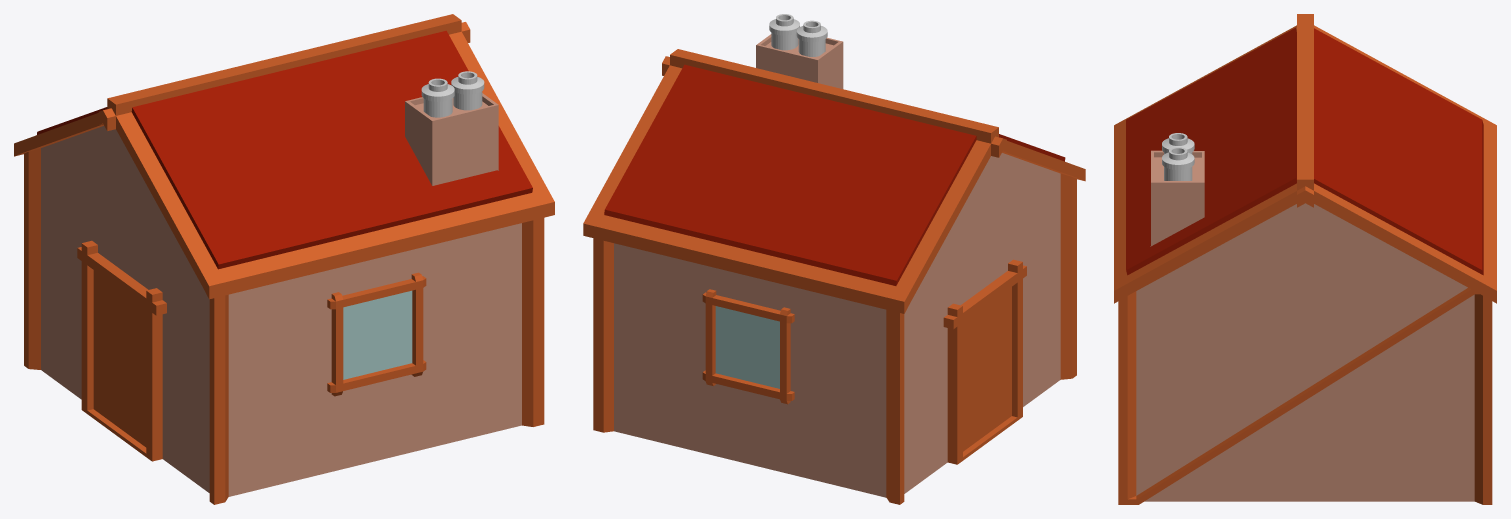
The model's file is 1x1 house.fbx.
The picture shows the model from 3 angles, left to right: view 1: azimuth 30°, elevation 25°; view 2: azimuth 150°, elevation 25°; view 3: azimuth 270°, elevation 25°; orthographic projection. The views are drawn at different scales.
Parts seen in each view (by area): view 1: Cube; view 2: Cube; view 3: Cube.
Boxes of the visible parts, <box> form: Cube: <box>14,14,554,504</box>; Cube: <box>583,14,1085,504</box>; Cube: <box>1114,14,1496,504</box>.
Size of the model in its own units: 208 by 185 by 194.
